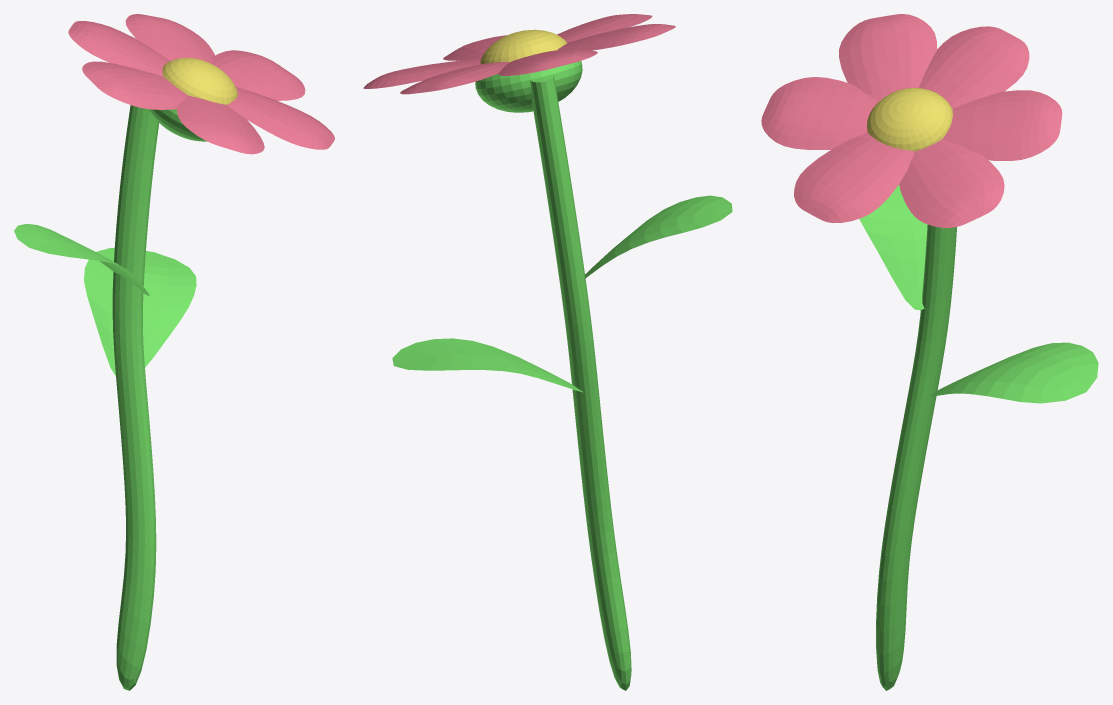
File: kwiatek2.fbx
3 renders of one model, left to right at view 1: azimuth 30°, elevation 25°; view 2: azimuth 150°, elevation 25°; view 3: azimuth 270°, elevation 25°, orthographic. The views are drawn at different scales.
Parts seen in each view (by area): view 1: Cube.002, Plane.007, Plane.006, Plane.005, Plane.004, Plane.003, Plane.001, Plane.002, Sphere, Plane.008, Sphere.001; view 2: Cube.002, Plane.007, Plane.008, Sphere.001, Sphere, Plane.005, Plane.002, Plane.001, Plane.003, Plane.004, Plane.006; view 3: Cube.002, Plane.006, Plane.003, Plane.004, Plane.002, Plane.005, Plane.007, Plane.001, Plane.008, Sphere.
Part boxes in pixels (x1,y1,x2,y2): Cube.002: [112, 105, 159, 690]; Plane.007: [84, 248, 196, 375]; Plane.006: [226, 87, 334, 149]; Plane.005: [82, 61, 187, 109]; Plane.004: [176, 95, 264, 154]; Plane.003: [211, 50, 305, 100]; Plane.001: [68, 21, 169, 76]; Plane.002: [125, 14, 214, 63]; Sphere: [162, 57, 237, 104]; Plane.008: [14, 224, 149, 295]; Sphere.001: [149, 109, 207, 141]; Cube.002: [530, 75, 631, 690]; Plane.007: [392, 338, 583, 392]; Plane.008: [584, 195, 732, 278]; Sphere.001: [475, 61, 582, 112]; Sphere: [480, 29, 566, 64]; Plane.005: [558, 24, 675, 50]; Plane.002: [400, 62, 509, 94]; Plane.001: [497, 49, 597, 76]; Plane.003: [363, 59, 480, 88]; Plane.004: [557, 14, 652, 42]; Plane.006: [443, 35, 506, 60]; Cube.002: [876, 224, 956, 690]; Plane.006: [794, 132, 914, 222]; Plane.003: [899, 139, 1004, 227]; Plane.004: [761, 77, 878, 149]; Plane.002: [942, 90, 1062, 160]; Plane.005: [839, 14, 936, 101]; Plane.007: [930, 342, 1098, 403]; Plane.001: [918, 26, 1029, 108]; Plane.008: [859, 185, 927, 310]; Sphere: [867, 88, 952, 151].
Size of the model in its own units: 18.62 by 36.46 by 16.91.
